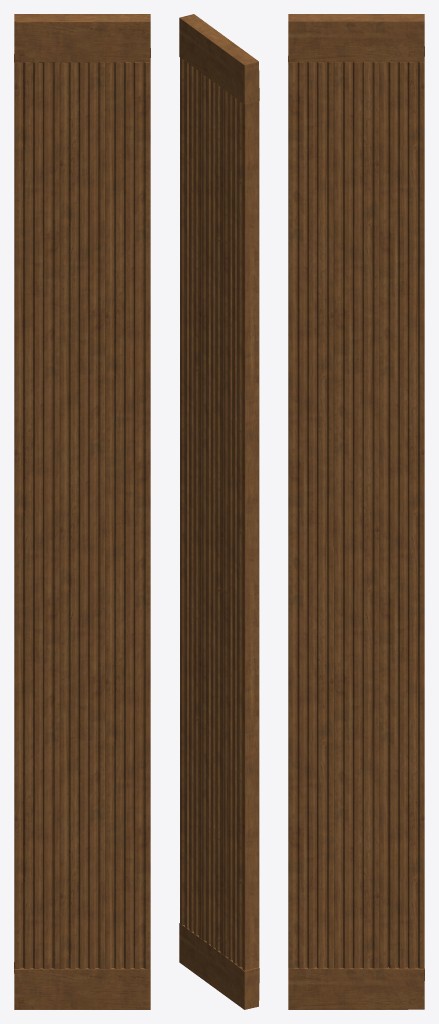
Rendered from SM_Office_wall01r.fbx.
3 renders of one model, left to right at view 1: azimuth 90°, elevation 25°; view 2: azimuth 210°, elevation 25°; view 3: azimuth 270°, elevation 25°, orthographic. The views are drawn at different scales.
Visible parts, largest first — view 1: SM_Office_wall01r_LOD0; view 2: SM_Office_wall01r_LOD0; view 3: SM_Office_wall01r_LOD0.
Part boxes in pixels (x1,y1,x2,y2): SM_Office_wall01r_LOD0: (14, 14, 150, 1009); SM_Office_wall01r_LOD0: (179, 14, 259, 1009); SM_Office_wall01r_LOD0: (288, 14, 424, 1009).
Bounding box in the file's own units: 20.37 × 150 × 1200.
